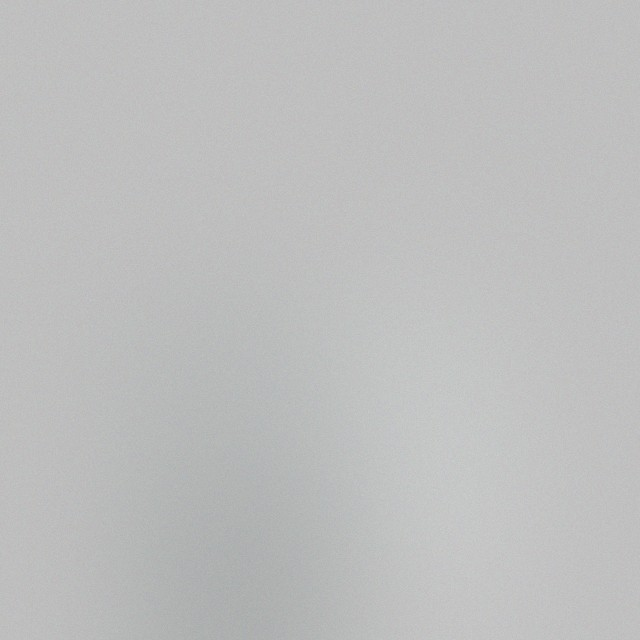smoke: (185, 303, 471, 589)
